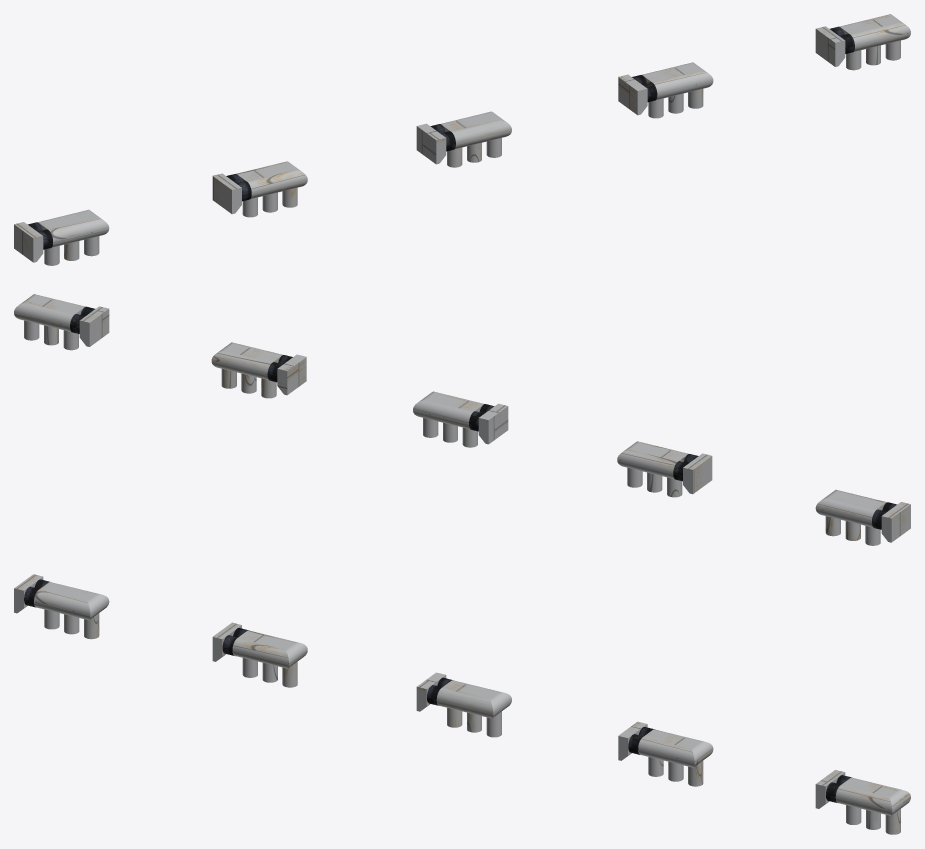
Rendered from tr_ass.fbx.
3 views of the same model, one above another, from view 1: azimuth 30°, elevation 25°; view 2: azimuth 150°, elevation 25°; view 3: azimuth 330°, elevation 25° (orthographic).
Visible parts, largest first — view 1: Object.003; view 2: Object.003; view 3: Object.003.
Part boxes in pixels (x1,y1,x2,y2): Object.003: (14,14,910,265); Object.003: (14,294,910,545); Object.003: (14,574,910,834).
Bounding box in the file's own units: 9285 × 385 × 357.
